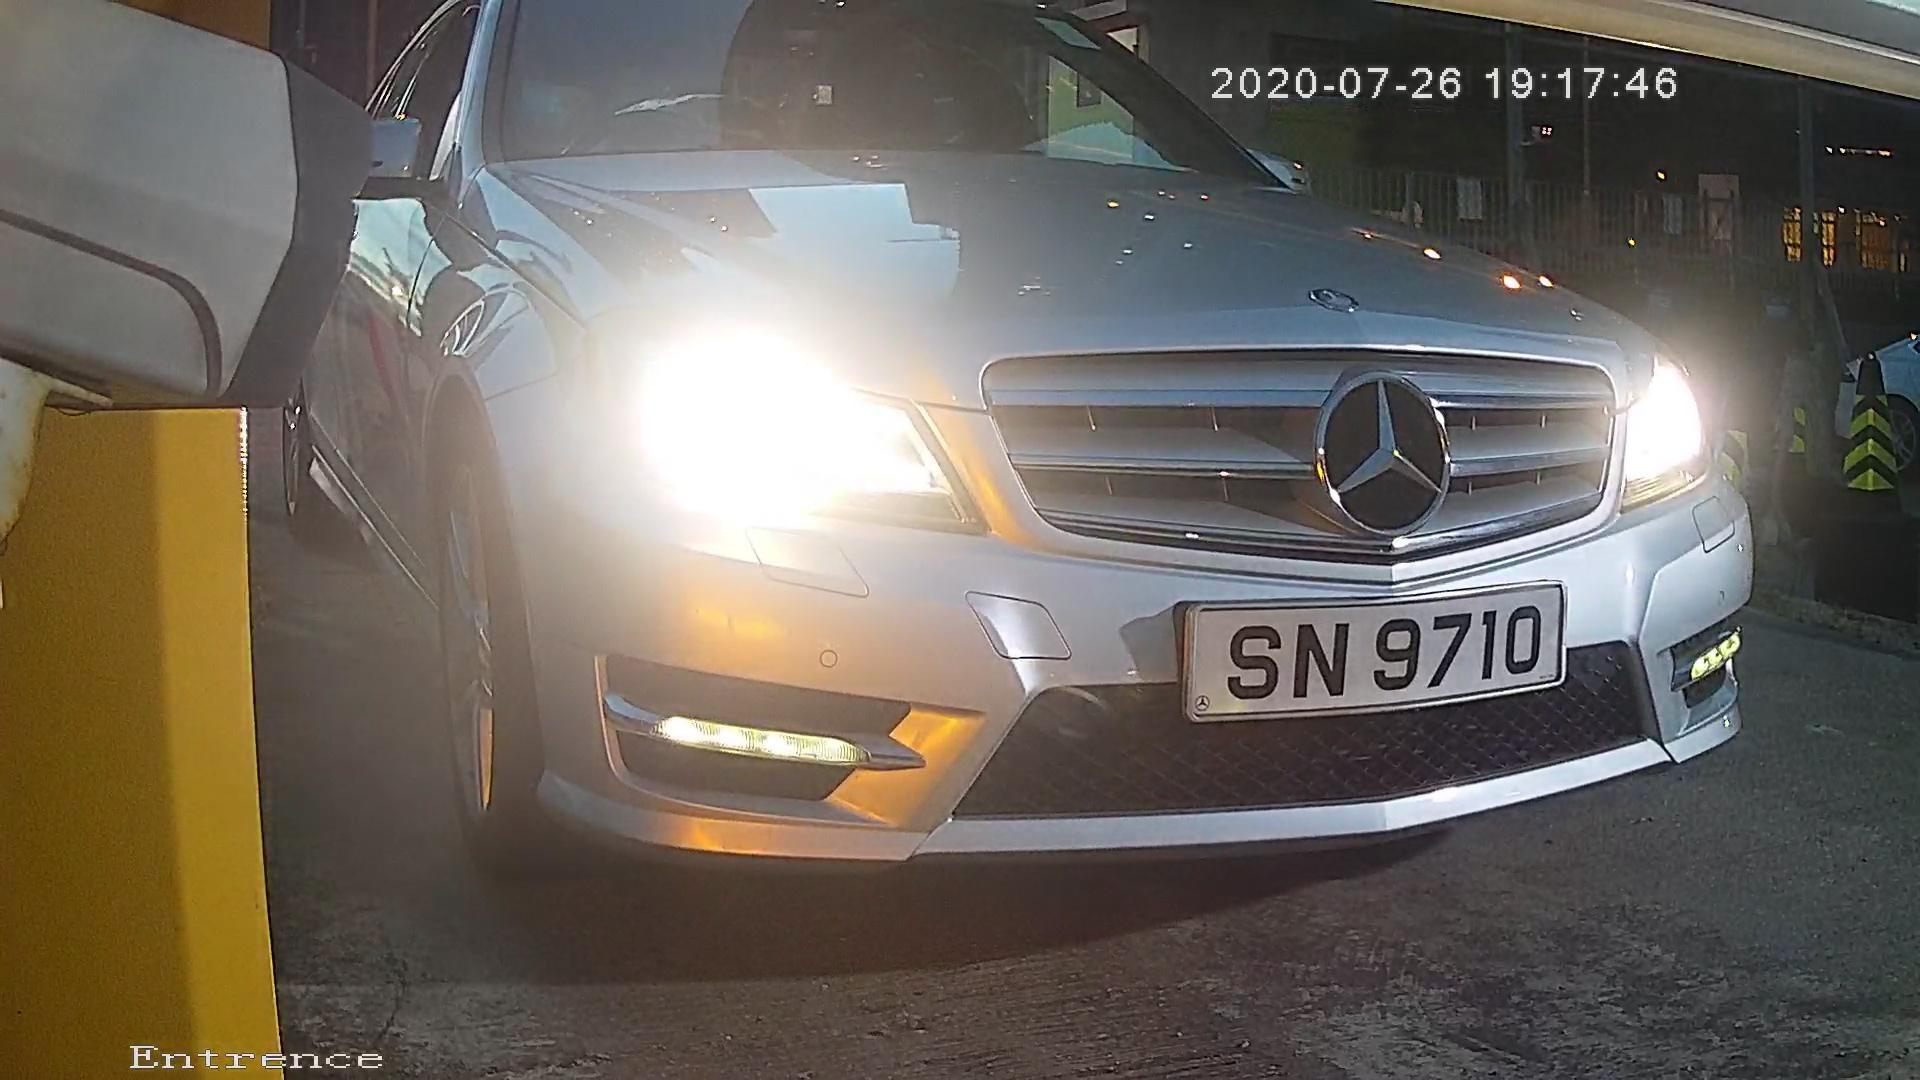Car: (180, 44, 1878, 946)
License Plate: (1166, 574, 1586, 729)
